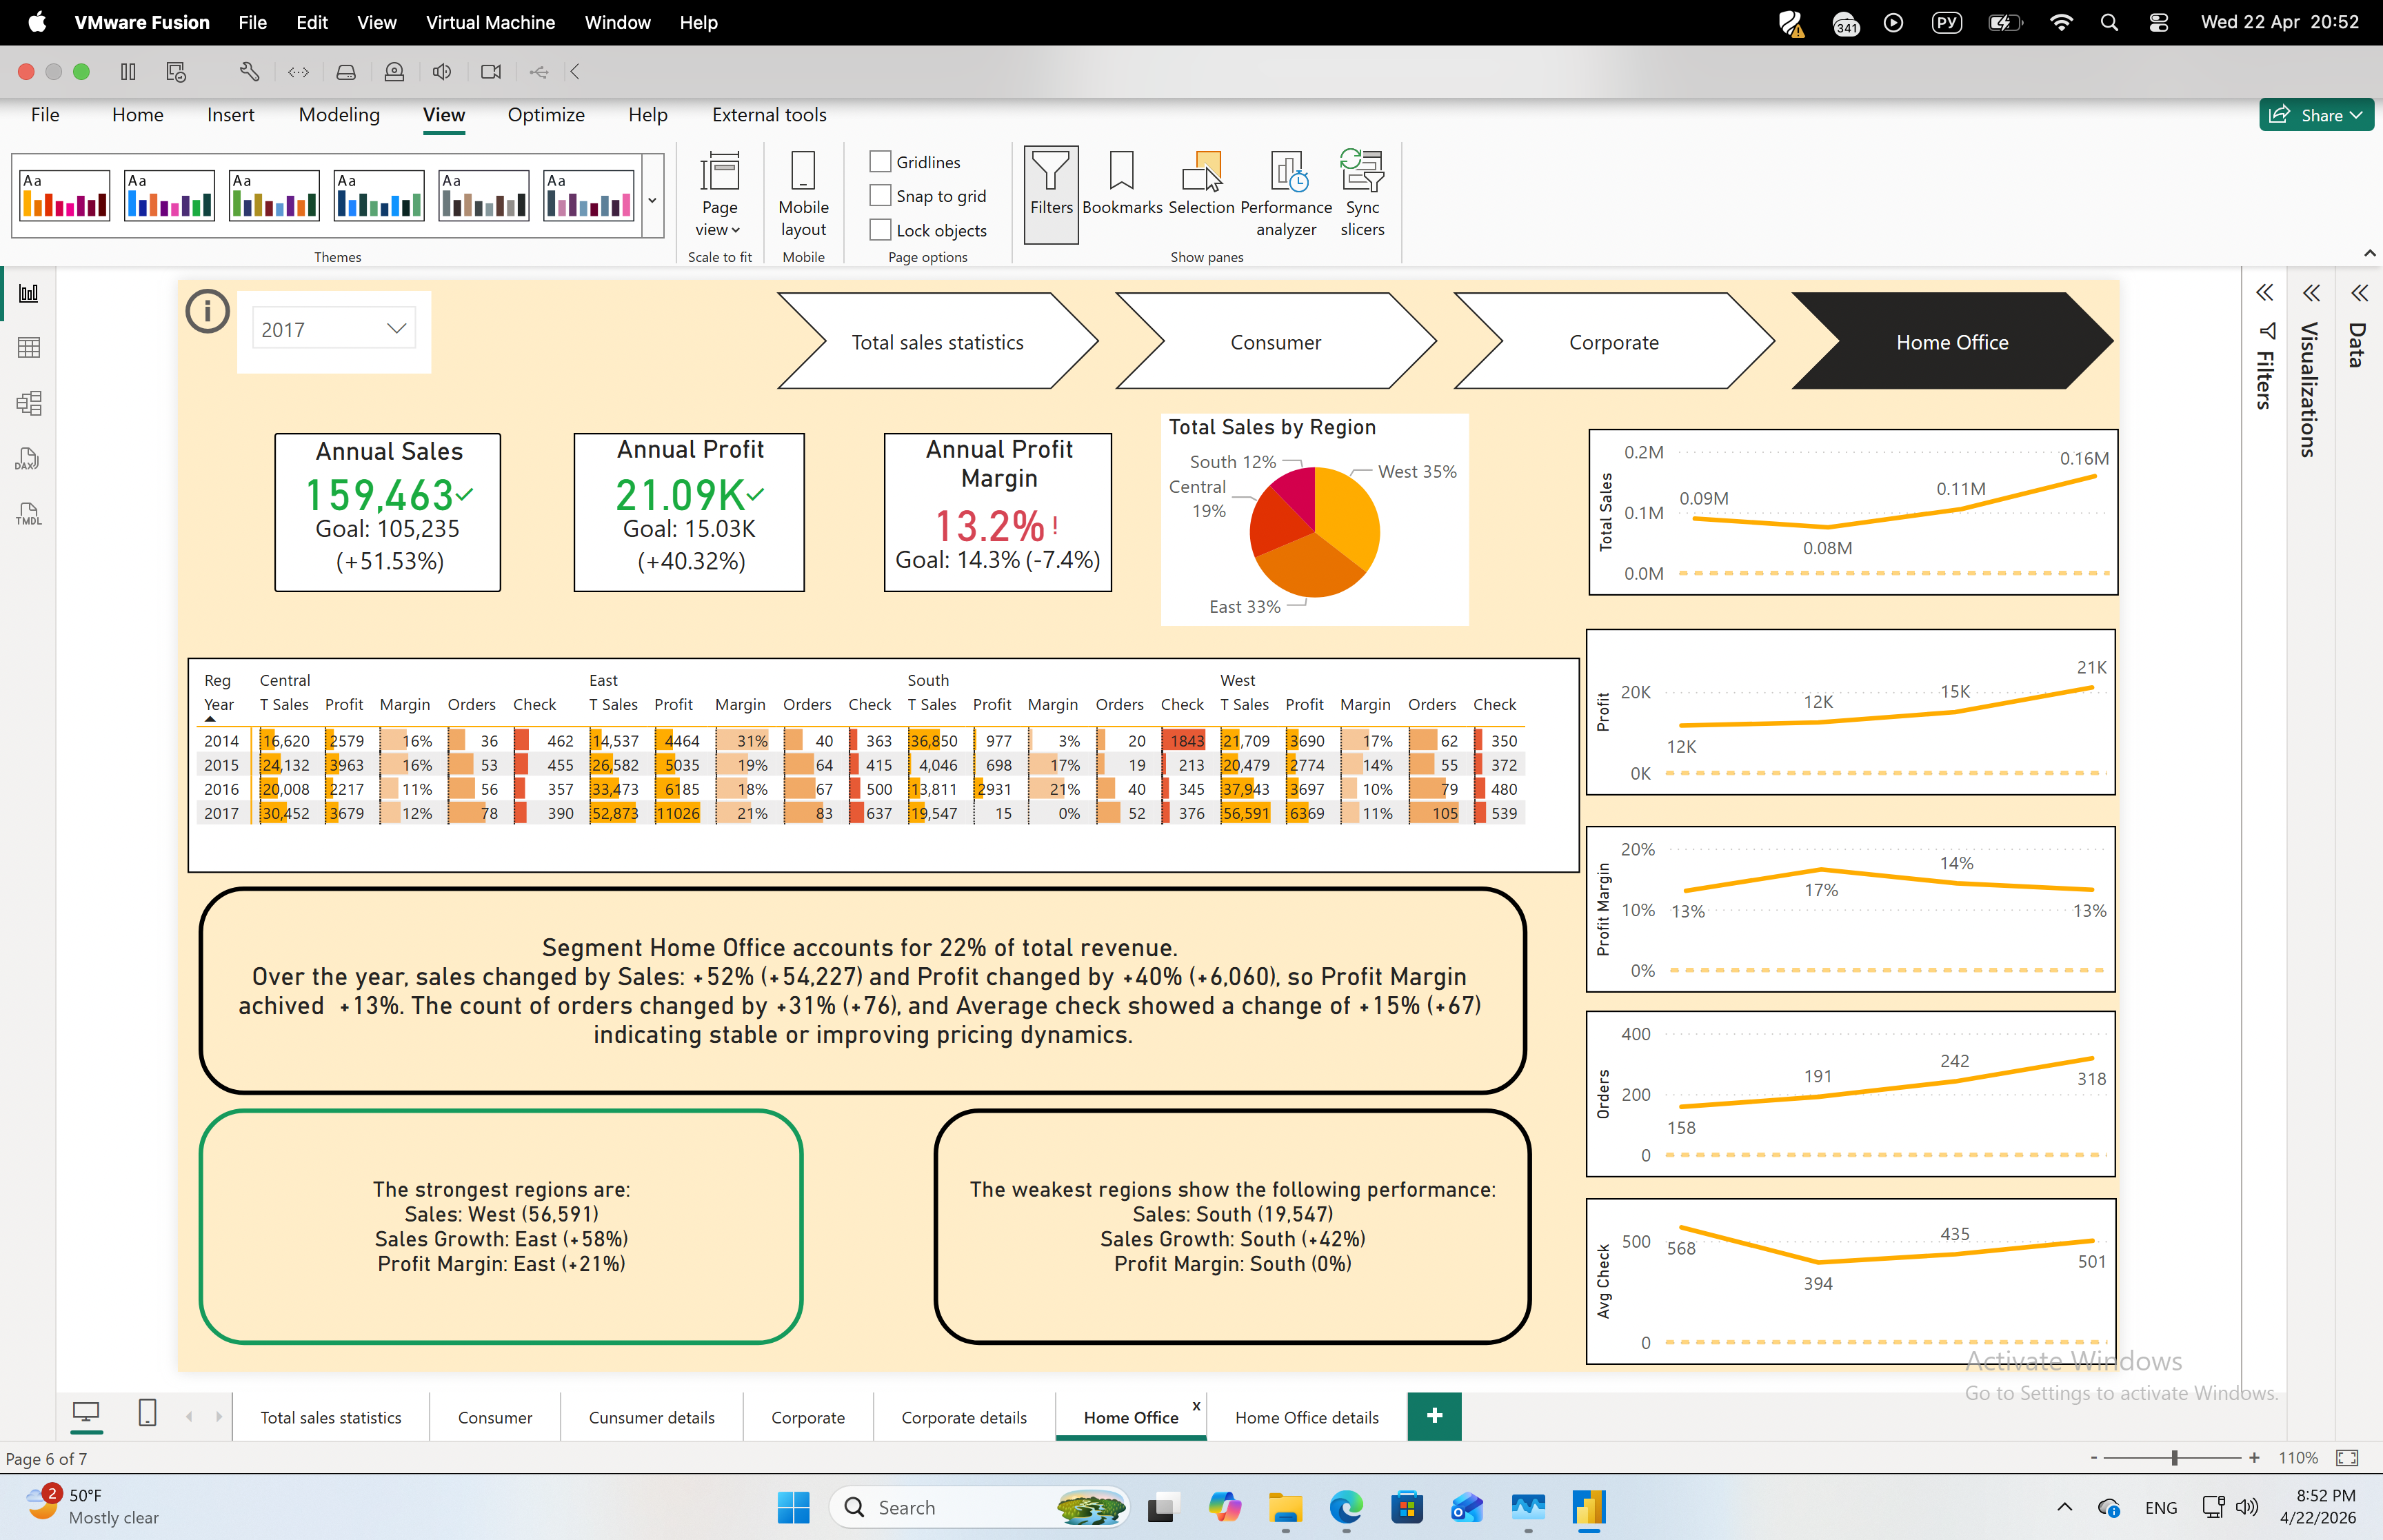

This screenshot's page, from the dashboard's own definition file:
{"tool":"powerbi","page":{"name":"Home Office","canvas":[1280,720],"ordinal":5},"visuals":[{"type":"pageNavigator","box":[395,7.9,885,64.7],"z":0},{"type":"actionButton","box":[0,1.1,39.4,39.4],"z":1000},{"type":"pivotTable","title":"KPI","fields":{"Columns":["Sales.Region"],"Rows":["DateTable.Year"],"Values":["_Measures.Total Sales","_Measures.Profit","_Measures.Profit Margin","_Measures.Distinct Orders","_Measures.Avg Check"]},"box":[6.6,249.4,917.9,142.2],"z":2000},{"type":"pieChart","fields":{"Y":["_Measures.Total Sales"],"Category":["Sales.Region"]},"box":[648.2,87.9,202.9,140.1],"z":3000},{"type":"slicer","fields":{"Values":["DateTable.Year"]},"box":[39.4,7.7,128,54.7],"z":6000},{"type":"card","fields":{"Values":["_Measures.KEY Insight 1.2"]},"box":[13.6,546.5,399.2,156],"z":9000},{"type":"card","fields":{"Values":["_Measures.Key Insight 1.3"]},"box":[498,546.5,394.4,156],"z":10000},{"type":"card","fields":{"Values":["_Measures.Key Insight 1.1"]},"box":[13.6,400.2,875.9,137.6],"z":11000},{"type":"lineChart","fields":{"Y":["_Measures.Total Sales"],"Category":["DateTable.Year"]},"box":[930.3,98.5,349.7,110.1],"z":12000},{"type":"lineChart","title":"Profit by Year","fields":{"Y":["_Measures.Profit"],"Category":["DateTable.Year"]},"box":[928.4,229.9,349.7,110.1],"z":13000},{"type":"lineChart","fields":{"Category":["DateTable.Year"],"Y":["_Measures.Distinct Orders"]},"box":[928.4,482.1,349.7,110.1],"z":14000},{"type":"lineChart","fields":{"Category":["DateTable.Year"],"Y":["_Measures.Avg Check"]},"box":[928.4,605.7,350,110],"z":15000},{"type":"lineChart","fields":{"Category":["DateTable.Year"],"Y":["_Measures.Profit Margin"]},"box":[928.4,360.3,349.7,110.1],"z":16000},{"type":"kpi","title":"Annual Sales","fields":{"Indicator":["_Measures.Total Sales"],"Goal":["_Measures.Sales_LY"],"TrendLine":["DateTable.Year"]},"box":[63.4,101.1,149.6,105],"z":16001},{"type":"kpi","title":"Annual Profit","fields":{"TrendLine":["DateTable.Year"],"Indicator":["_Measures.Profit"],"Goal":["_Measures.Profit LY"]},"box":[260.6,101.1,152.6,105],"z":16002},{"type":"kpi","title":"Annual Profit Margin","fields":{"TrendLine":["DateTable.Year"],"Indicator":["_Measures.Profit Margin"],"Goal":["_Measures.Margin LY"]},"box":[465.6,101.1,150.6,105],"z":16003}]}

Visuals, with their boxes on the page's 1280x720 design canvas (x1, y1, x2, y2). These are canvas units, not pixel positions in the 2383x1540 screenshot, which may show the page scaled, cropped or inside an application window:
pageNavigator: [395,8,1280,73]
actionButton: [0,1,39,40]
"KPI" pivotTable: [7,249,924,392]
pieChart - _Measures.Total Sales x Sales.Region: [648,88,851,228]
slicer - DateTable.Year: [39,8,167,62]
card - _Measures.KEY Insight 1.2: [14,546,413,702]
card - _Measures.Key Insight 1.3: [498,546,892,702]
card - _Measures.Key Insight 1.1: [14,400,890,538]
lineChart - _Measures.Total Sales x DateTable.Year: [930,98,1280,209]
"Profit by Year" lineChart: [928,230,1278,340]
lineChart - DateTable.Year x _Measures.Distinct Orders: [928,482,1278,592]
lineChart - DateTable.Year x _Measures.Avg Check: [928,606,1278,716]
lineChart - DateTable.Year x _Measures.Profit Margin: [928,360,1278,470]
"Annual Sales" kpi: [63,101,213,206]
"Annual Profit" kpi: [261,101,413,206]
"Annual Profit Margin" kpi: [466,101,616,206]
